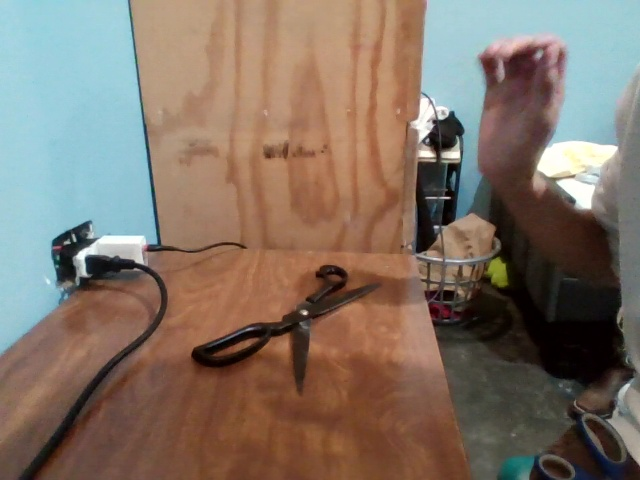tijeras: (185, 261, 381, 374)
